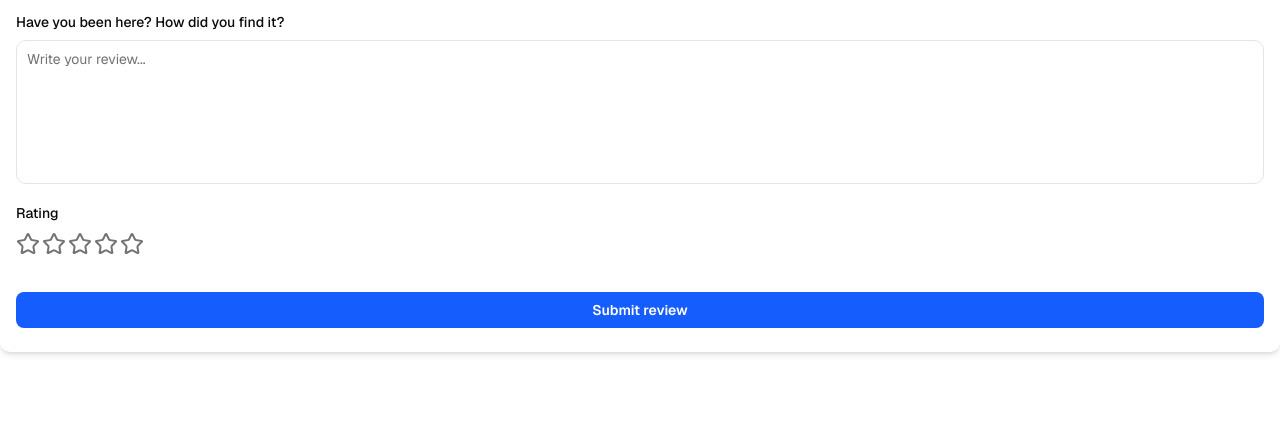
Test: ReviewForm › shows validation errors when submitted empty
Click the button "Submit review". click: (640, 310)
box: [16,292,1264,328]
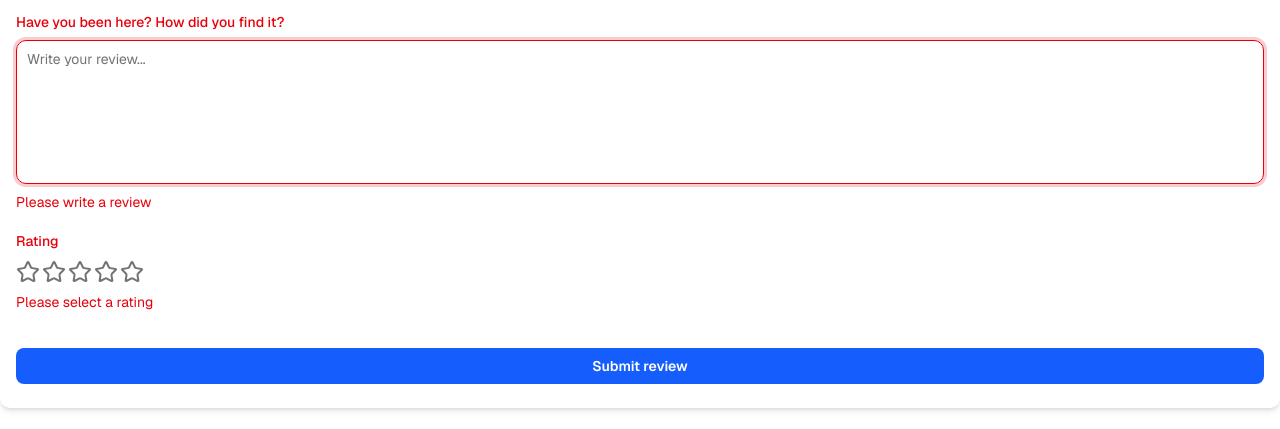
expect the text "Please write a review" is shown: met, box [16,193,151,211]
expect the text "Please select a rating" is shown: met, box [16,292,153,310]
